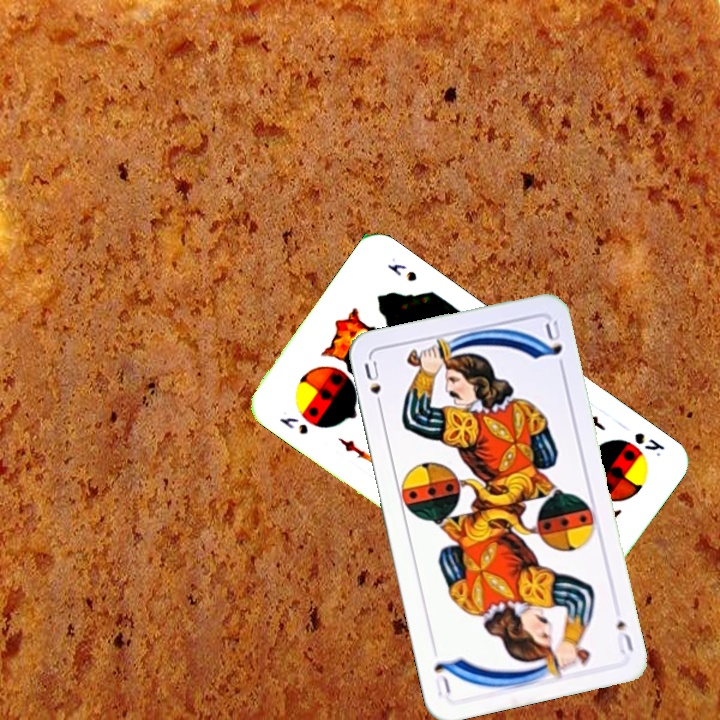SK: (630, 428, 668, 459), (275, 413, 311, 437)
SU: (360, 356, 386, 414), (612, 616, 636, 656)
